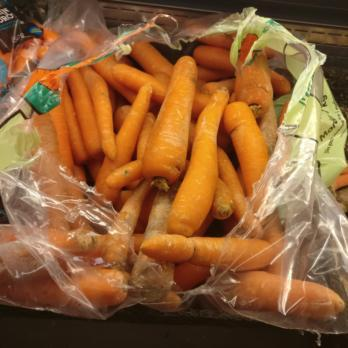Carrot: (3, 29, 265, 315), (253, 279, 348, 325)
